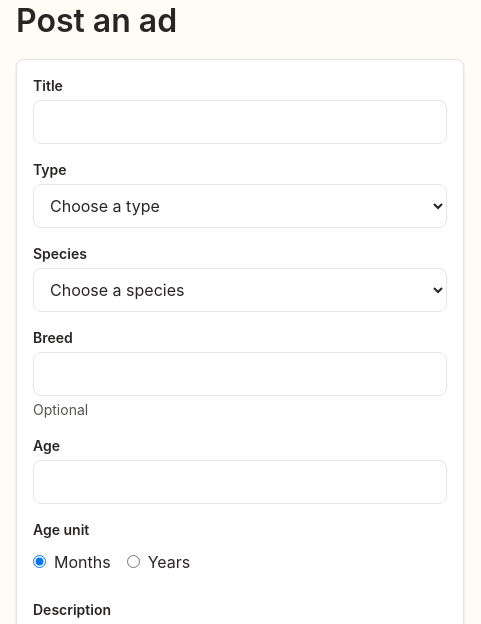
CreatePetAdPage › keeps the typed price when switching Sale, Adoption, Sale
Select "Sale" in the dropdown labelled "Type" at (240, 206), box [33, 184, 447, 228]
(page scrolled)
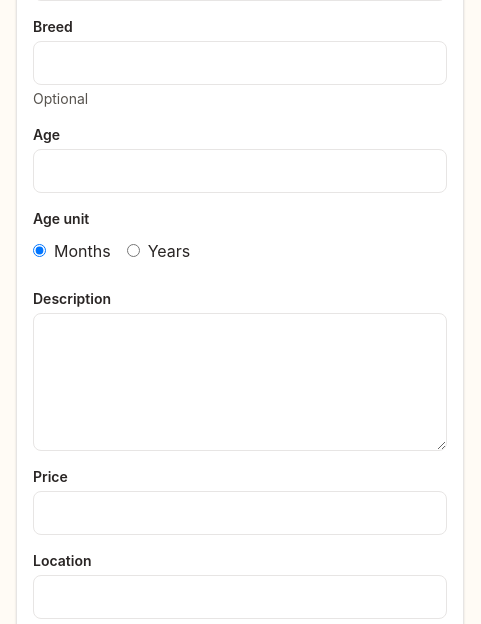
Type "150" into the field labelled "Price" at (240, 513), box [33, 491, 447, 535]
(page scrolled)
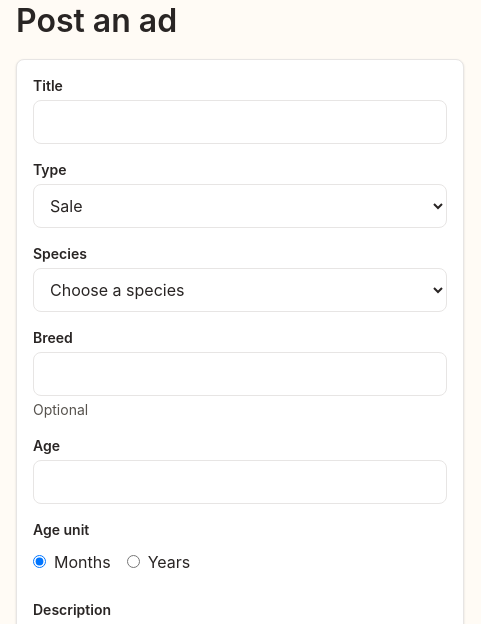
Select "Adoption" in the dropdown labelled "Type" at (240, 206), box [33, 184, 447, 228]
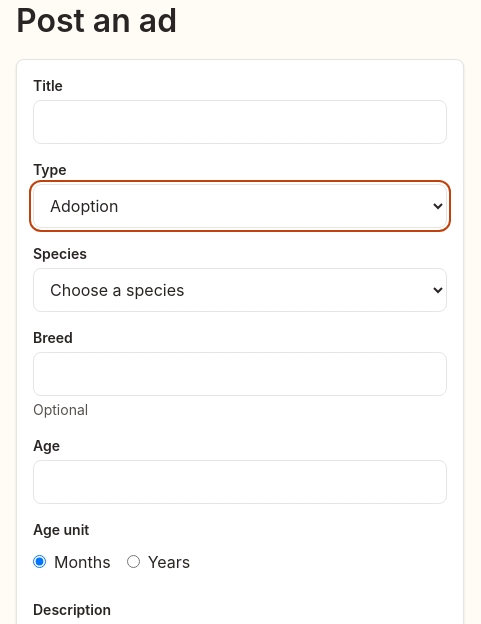
Select "Sale" in the dropdown labelled "Type" at (240, 206), box [33, 184, 447, 228]
(page scrolled)
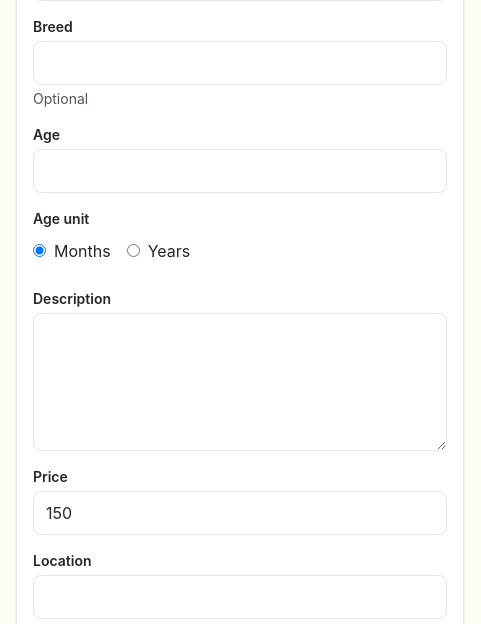
Now the field labelled "Price" holds "150", box [33, 491, 447, 535]
